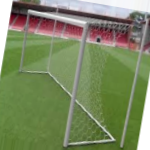goals: (18, 8, 118, 146)
